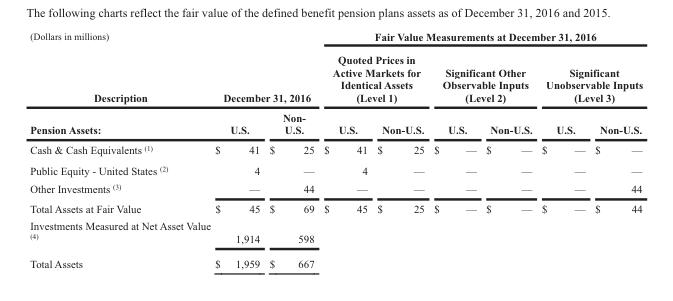table: (29, 28, 642, 270)
table column: (29, 28, 212, 270), (371, 28, 428, 270), (480, 28, 536, 270), (264, 28, 318, 270), (318, 28, 371, 270), (536, 28, 589, 270), (589, 28, 642, 270), (212, 28, 264, 270), (428, 28, 480, 270)
table column header: (29, 28, 642, 139)
table row: (29, 47, 642, 106), (29, 216, 642, 250), (29, 106, 642, 139), (29, 139, 642, 159), (29, 159, 642, 179), (29, 250, 642, 270), (29, 28, 642, 47), (29, 179, 642, 198), (29, 198, 642, 216)
table spanning cell: (29, 28, 212, 139), (212, 28, 318, 106), (318, 47, 428, 106), (428, 47, 536, 106), (536, 47, 642, 106), (318, 28, 642, 47)
